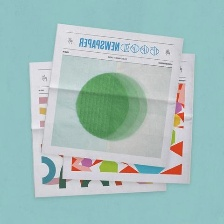news_paper: (39, 22, 185, 171), (23, 59, 170, 201), (56, 50, 198, 187)
